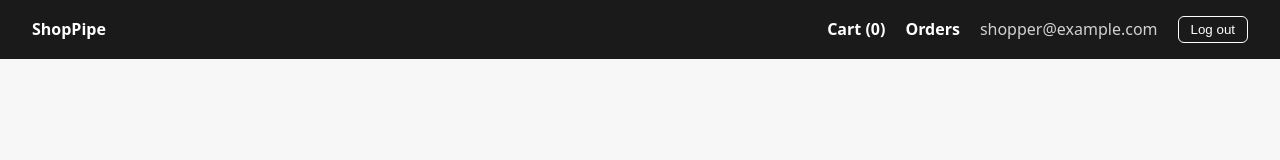
Navbar › clears stored auth and shows logged-out links after logout
Click the button "Log out".
click(1213, 29)  # box [1178,16,1248,43]
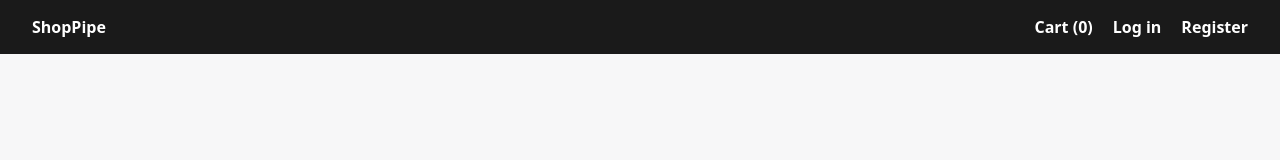
Expected: the link "Log in" is shown, [1113,16,1161,38]
